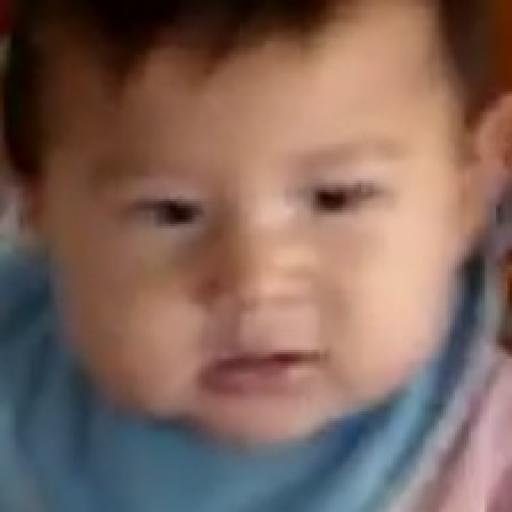Autism: (27, 1, 499, 448)
